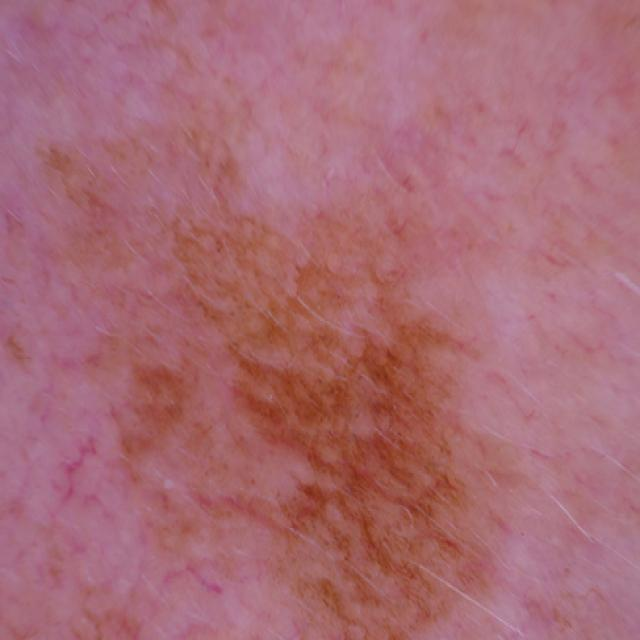Keratosis: (37, 98, 321, 399), (276, 419, 514, 640), (339, 239, 567, 417)
